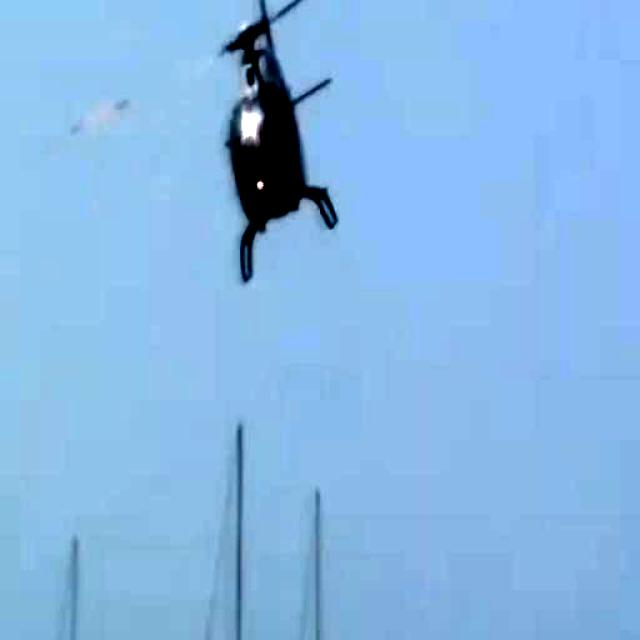drone: (162, 0, 406, 285)
